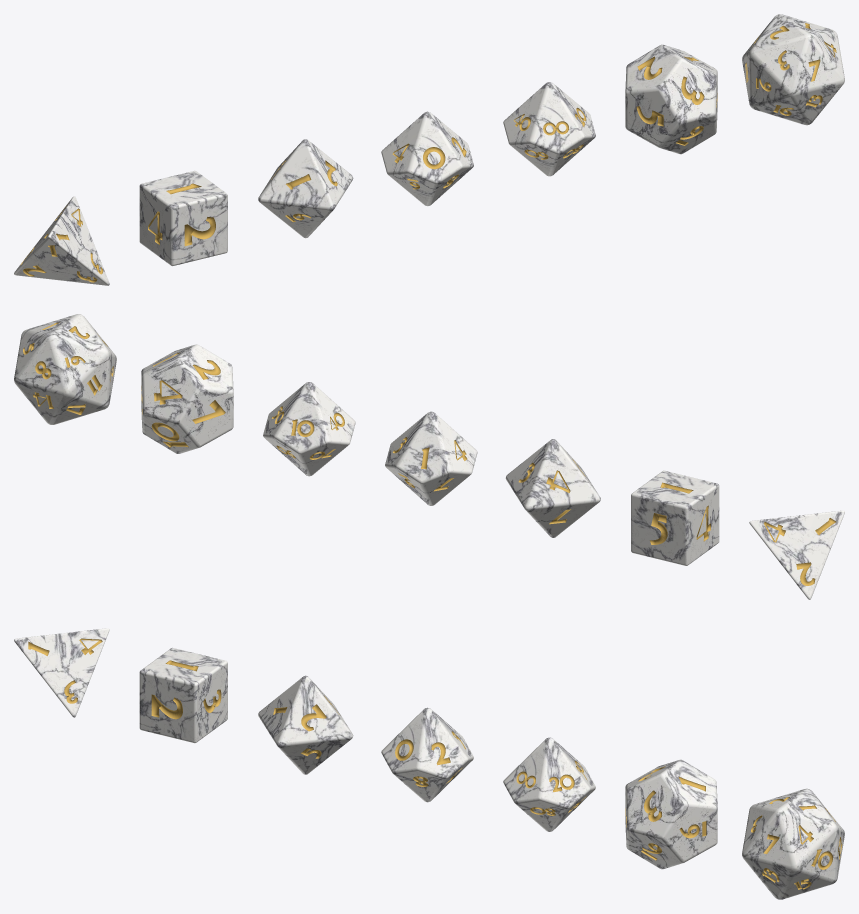
Rendered from carrara-marble.glb.
The picture shows the model from 3 angles, top to bottom: view 1: azimuth 30°, elevation 25°; view 2: azimuth 150°, elevation 25°; view 3: azimuth 330°, elevation 25°; orthographic projection.
Parts seen in each view (by area): view 1: d20, d12, d6, d100, d10, d8, d4; view 2: d20, d12, d6, d100, d10, d8, d4; view 3: d20, d12, d6, d8, d100, d10, d4.
Boxes of the visible parts, box(x1,y1,x2,y2) form: d20: box(742, 14, 844, 125); d12: box(625, 44, 717, 154); d6: box(139, 170, 227, 266); d100: box(503, 82, 595, 176); d10: box(381, 111, 473, 206); d8: box(258, 139, 353, 238); d4: box(14, 196, 109, 285); d20: box(14, 314, 116, 424); d12: box(141, 344, 233, 453); d6: box(631, 470, 719, 565); d100: box(263, 382, 355, 476); d10: box(385, 411, 477, 505); d8: box(505, 439, 600, 537); d4: box(749, 510, 844, 599); d20: box(742, 788, 844, 899); d12: box(625, 759, 717, 869); d6: box(139, 647, 227, 743); d8: box(258, 675, 353, 774); d100: box(503, 737, 595, 831); d10: box(381, 707, 473, 802); d4: box(14, 628, 109, 717).
Bounding box in the file's own units: 21.14 × 2.47 × 2.47.
14 materials, 7 textured.
